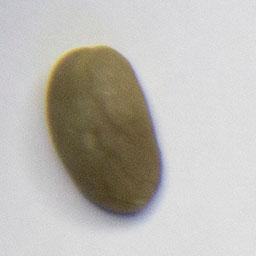premium: (43, 42, 165, 221)
